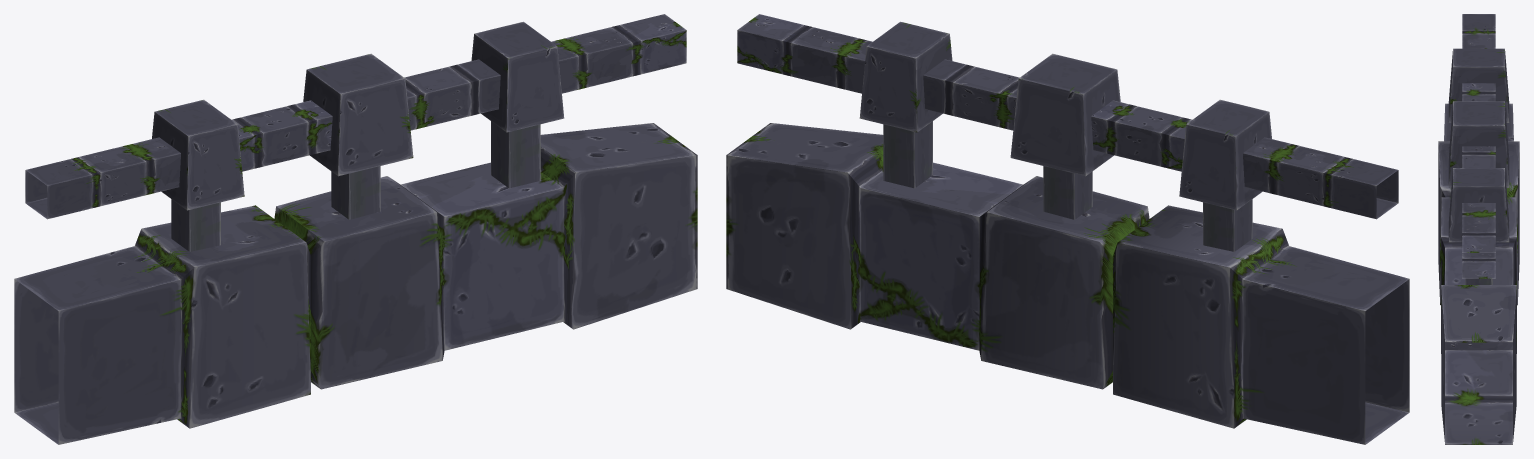
The model's file is MOD_Railing_01_straight.fbx.
The picture shows the model from 3 angles, left to right: view 1: azimuth 30°, elevation 25°; view 2: azimuth 150°, elevation 25°; view 3: azimuth 270°, elevation 25°; orthographic projection. The views are drawn at different scales.
Parts seen in each view (by area): view 1: MOD_Railing_01_straight; view 2: MOD_Railing_01_straight; view 3: MOD_Railing_01_straight.
Boxes of the visible parts, x1,y1,x2,y2 form: MOD_Railing_01_straight: (14, 14, 697, 444); MOD_Railing_01_straight: (726, 14, 1409, 444); MOD_Railing_01_straight: (1438, 14, 1519, 444).
Size of the model in its own units: 400 by 172 by 57.45.
